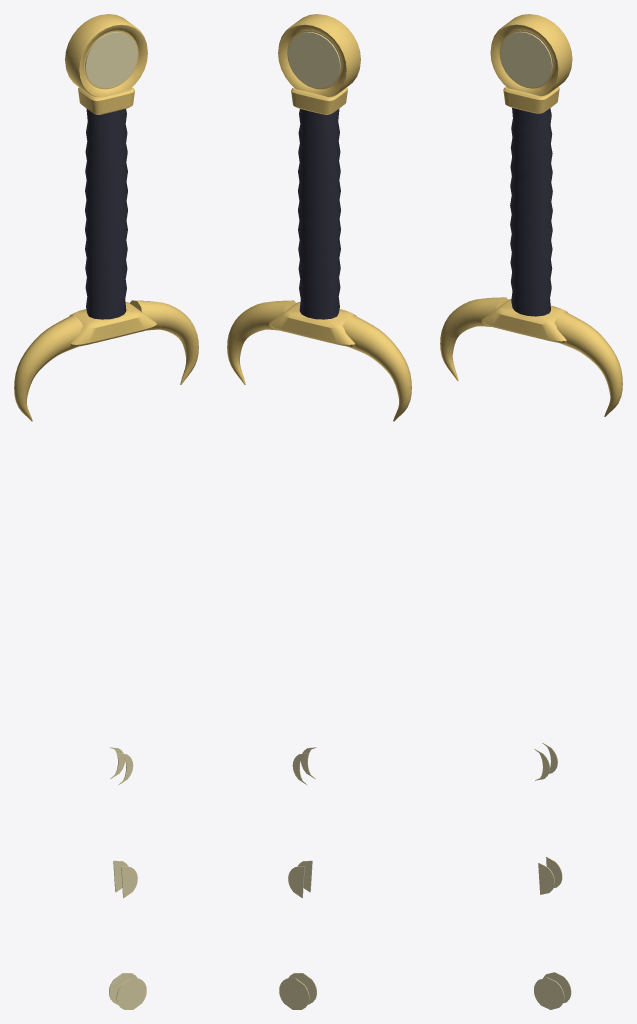
The model's file is MoonbiteHiltGame.fbx.
3 views of the same model, side by side, from view 1: azimuth 30°, elevation 25°; view 2: azimuth 150°, elevation 25°; view 3: azimuth 330°, elevation 25° (orthographic).
Visible parts, largest first — view 1: Grip, Guard, Moon, Pommel; view 2: Grip, Guard, Moon, Pommel; view 3: Grip, Guard, Moon, Pommel.
Boxes of the visible parts, bbox=[...] form: Grip: bbox=[85, 109, 127, 319]; Guard: bbox=[14, 300, 198, 421]; Moon: bbox=[85, 32, 146, 1009]; Pommel: bbox=[65, 14, 147, 114]; Grip: bbox=[298, 109, 340, 319]; Guard: bbox=[227, 300, 411, 421]; Moon: bbox=[279, 32, 340, 1009]; Pommel: bbox=[278, 14, 360, 114]; Grip: bbox=[510, 108, 552, 316]; Guard: bbox=[440, 297, 622, 416]; Moon: bbox=[500, 31, 571, 1009]; Pommel: bbox=[490, 14, 572, 113].
Size of the model in its own units: 0.6655 by 3.45 by 0.1385.
